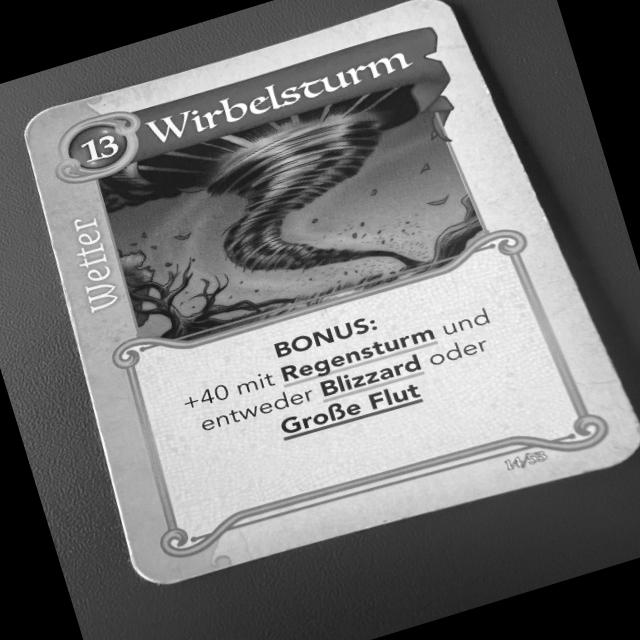Whirlwind: (17, 0, 640, 597)
